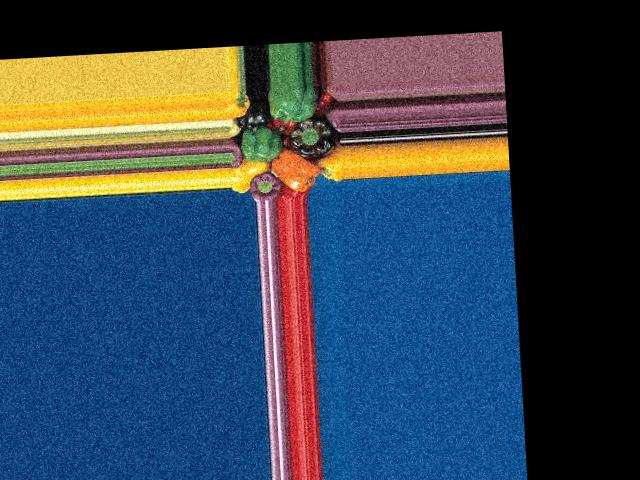bell_pepper: (269, 85, 318, 119)
